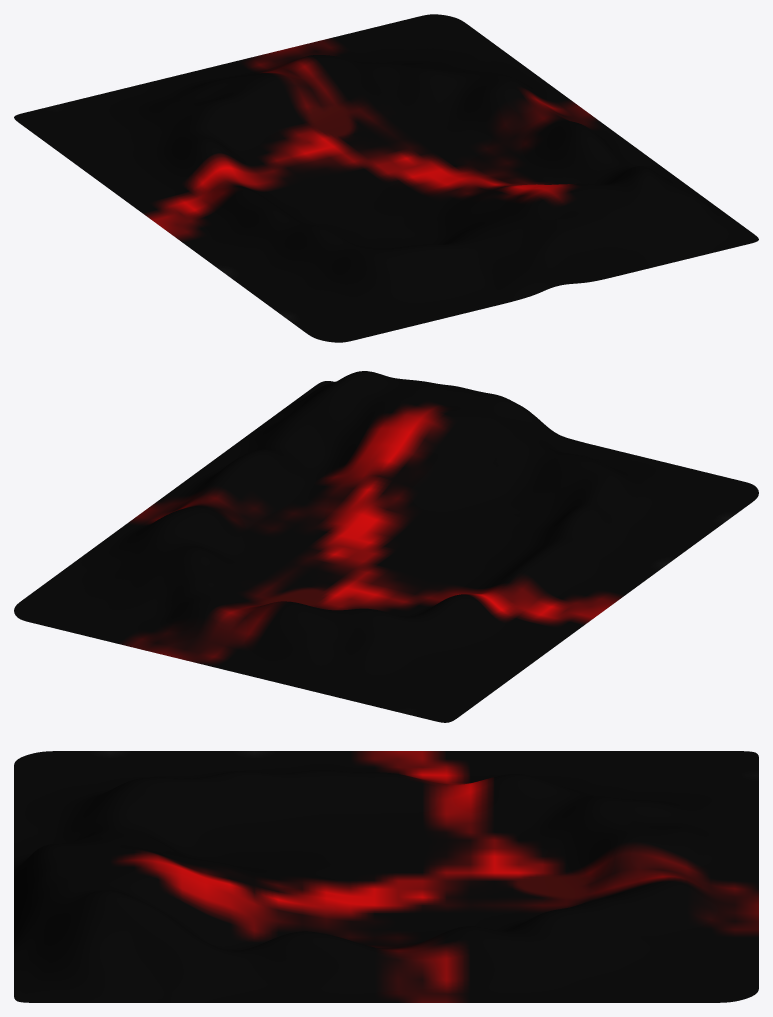
File: SM_Terrain_MainMenu_HighPoly.glb
3 views of the same model, one above another, from view 1: azimuth 30°, elevation 25°; view 2: azimuth 150°, elevation 25°; view 3: azimuth 270°, elevation 25° (orthographic). The views are drawn at different scales.
Parts seen in each view (by area): view 1: SM_Terrain_MainMenu; view 2: SM_Terrain_MainMenu; view 3: SM_Terrain_MainMenu.
Boxes of the visible parts, x1,y1,x2,y2 form: SM_Terrain_MainMenu: [14, 14, 758, 342]; SM_Terrain_MainMenu: [14, 371, 758, 722]; SM_Terrain_MainMenu: [14, 751, 758, 1002].
Bounding box in the file's own units: 200 × 24.14 × 250.
